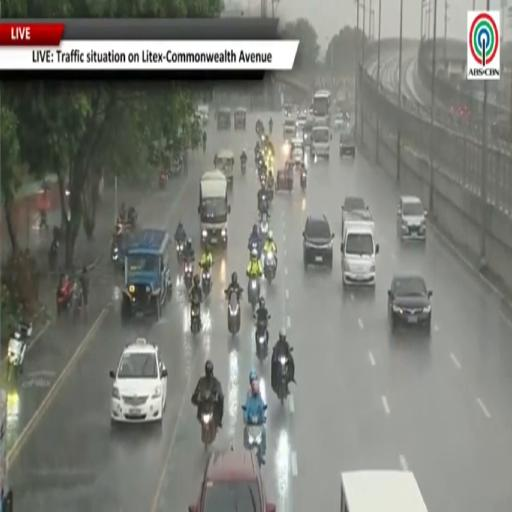bus: (341, 471, 427, 511), (0, 389, 13, 511), (312, 90, 331, 125)
car: (189, 450, 275, 511), (110, 338, 167, 424), (388, 275, 432, 332), (302, 215, 334, 270), (397, 196, 427, 241), (339, 124, 355, 157), (302, 120, 314, 147)
jeepney: (214, 150, 234, 185), (216, 108, 232, 130), (234, 108, 247, 130)
motorcycle: (7, 323, 32, 381), (200, 392, 217, 450), (245, 419, 264, 467), (255, 315, 270, 363), (277, 355, 288, 405), (228, 292, 241, 334), (71, 280, 84, 320), (57, 285, 73, 316), (248, 278, 260, 310), (264, 251, 276, 283), (48, 240, 59, 271), (191, 301, 200, 334), (202, 267, 211, 296), (259, 217, 269, 243), (248, 237, 261, 257), (258, 195, 269, 218), (184, 262, 193, 290), (267, 175, 275, 203), (128, 208, 137, 230), (176, 240, 184, 262), (111, 241, 119, 262), (159, 172, 168, 188), (300, 169, 306, 190), (259, 170, 266, 187), (241, 160, 246, 174)
tricycle: (276, 168, 293, 191)
truck: (121, 229, 172, 323), (341, 216, 378, 286), (198, 170, 230, 248), (342, 197, 372, 238), (311, 125, 332, 159)
